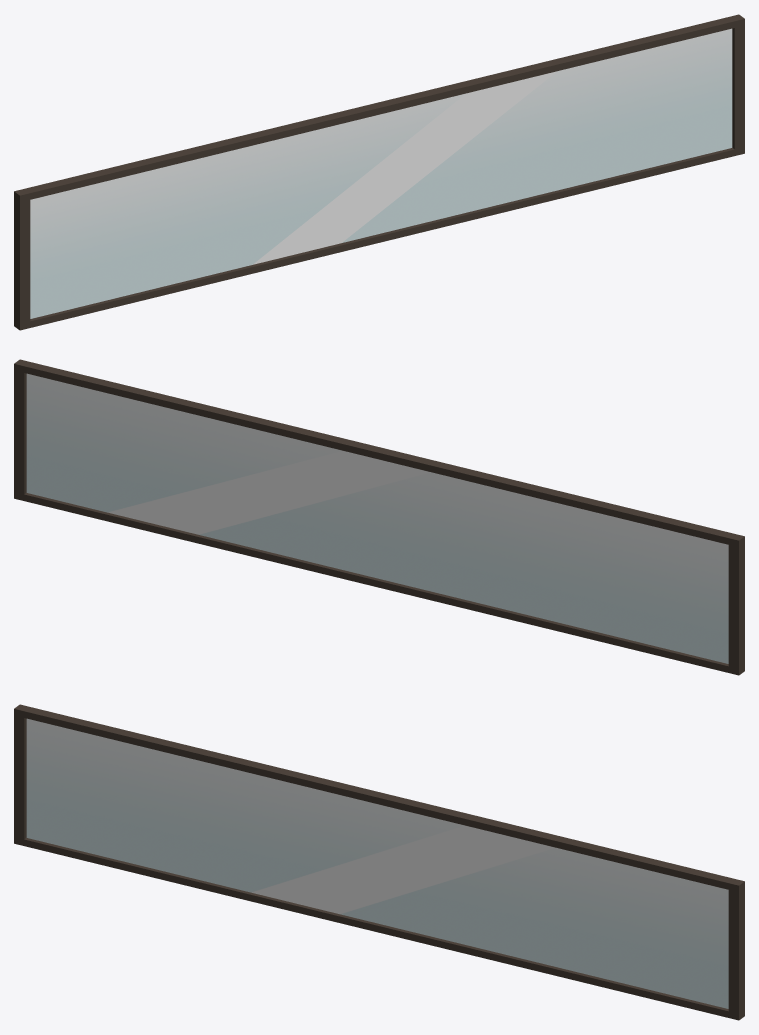
Rendered from Wall Long.fbx.
3 views of the same model, one above another, from view 1: azimuth 30°, elevation 25°; view 2: azimuth 150°, elevation 25°; view 3: azimuth 330°, elevation 25° (orthographic).
Parts seen in each view (by area): view 1: pCube22; view 2: pCube22; view 3: pCube22.
Part boxes in pixels (box(x1,y1,x2,y2)): pCube22: box(14, 14, 744, 330); pCube22: box(14, 359, 744, 675); pCube22: box(14, 704, 744, 1020).
Size of the model in its own units: 70.3 by 12.5 by 1.
1 material, 1 textured.
